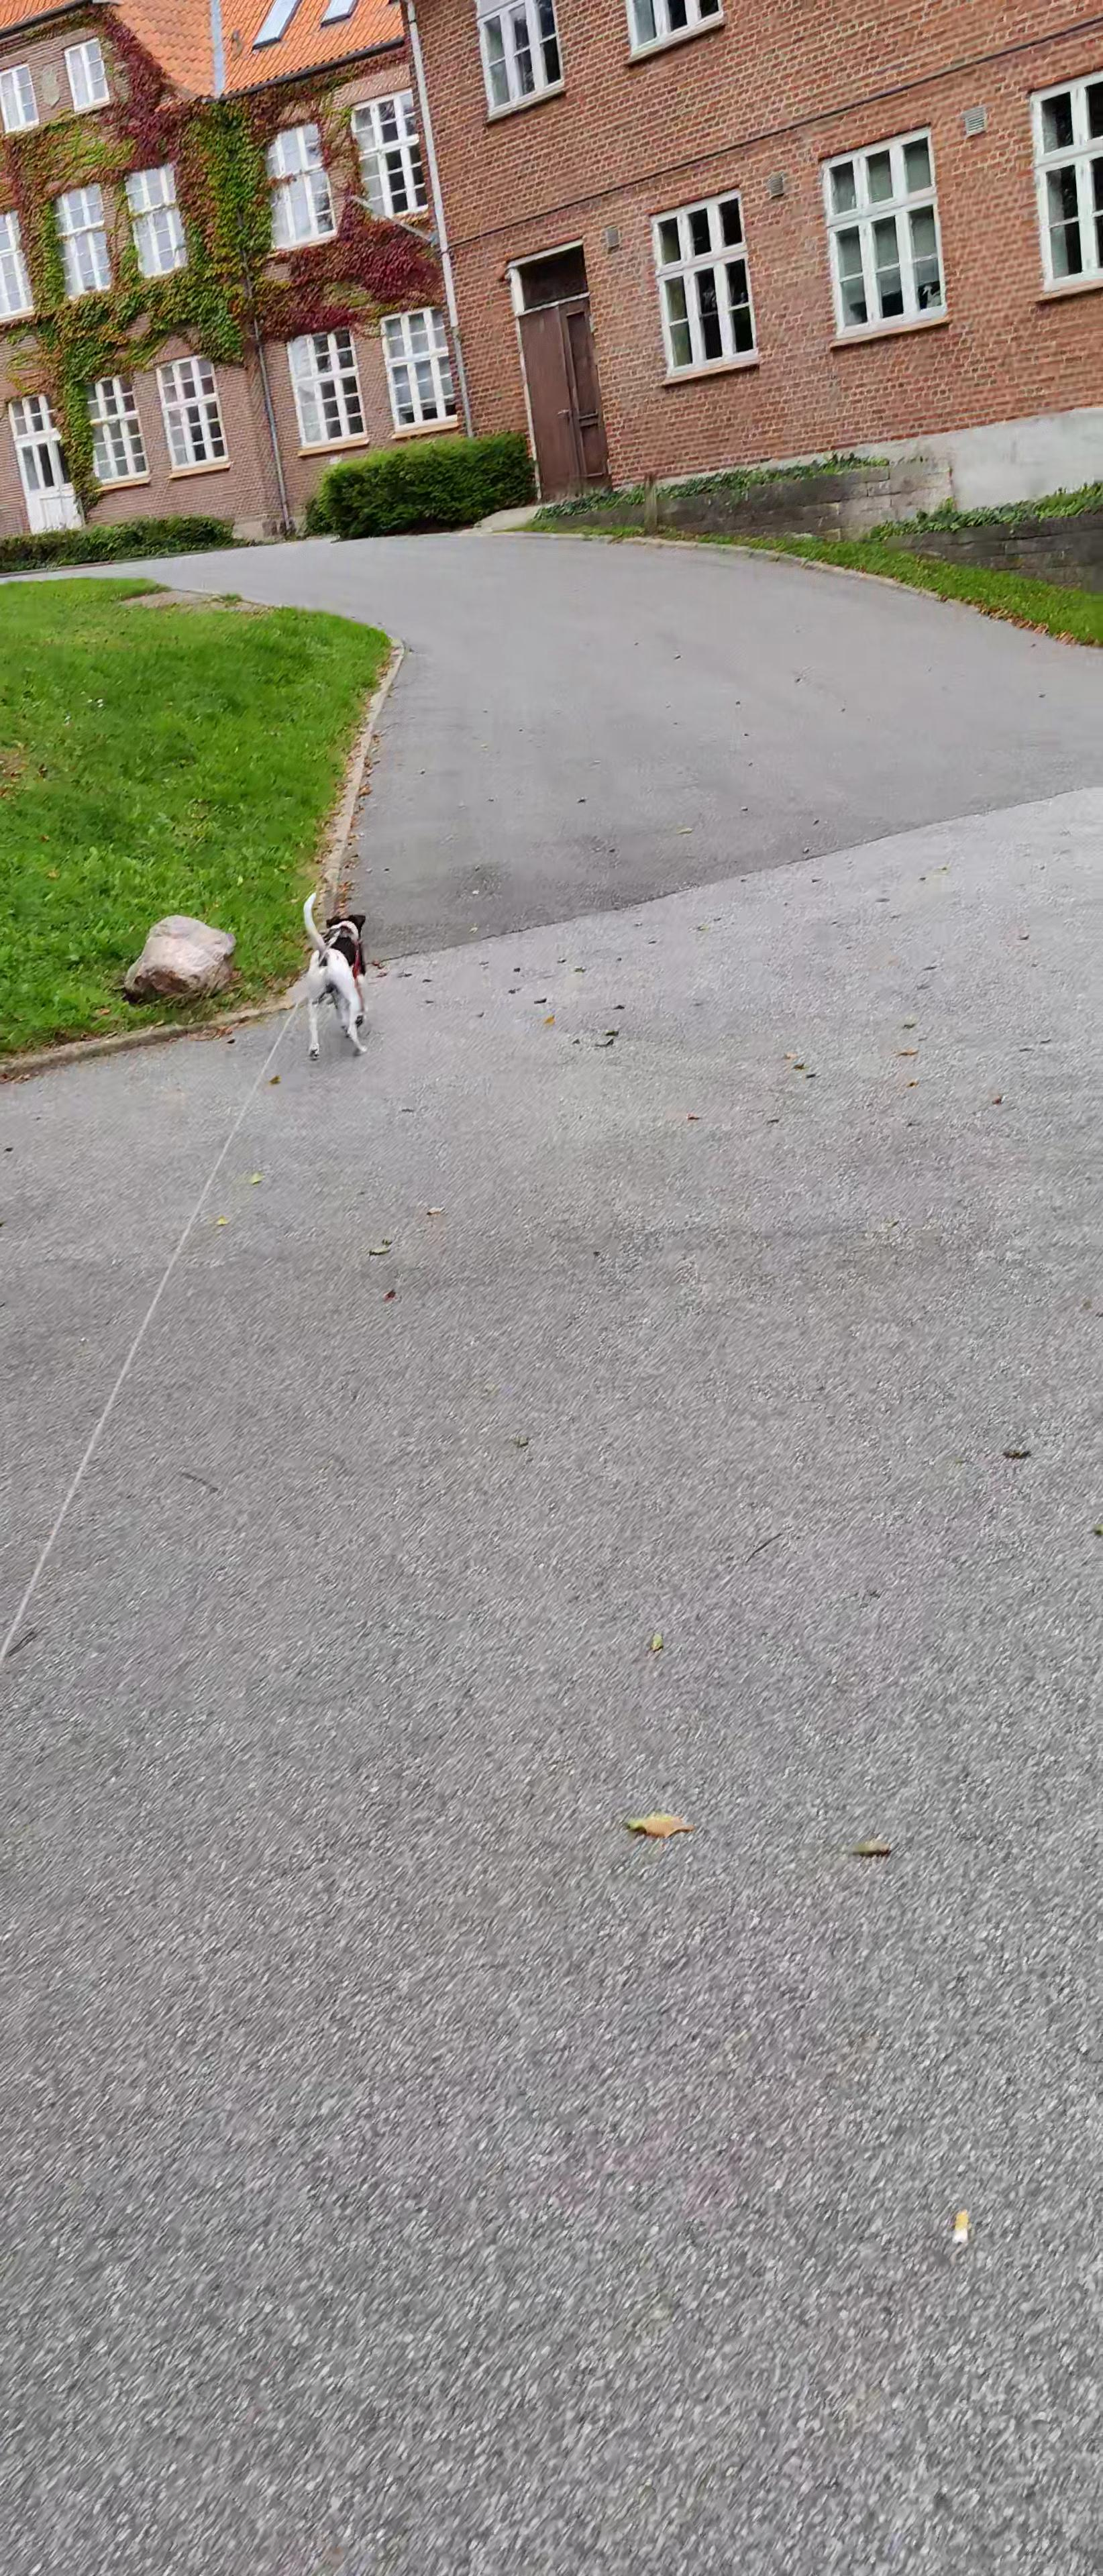Dog: (302, 890, 368, 1061)
